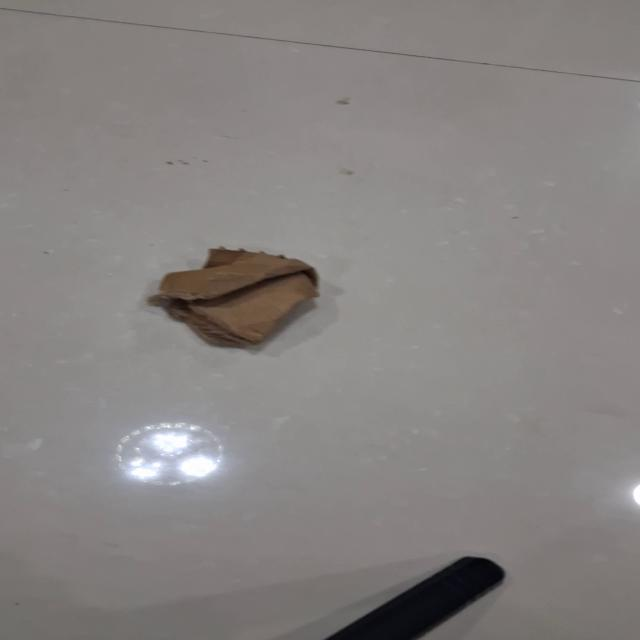paper: (147, 245, 320, 348)
